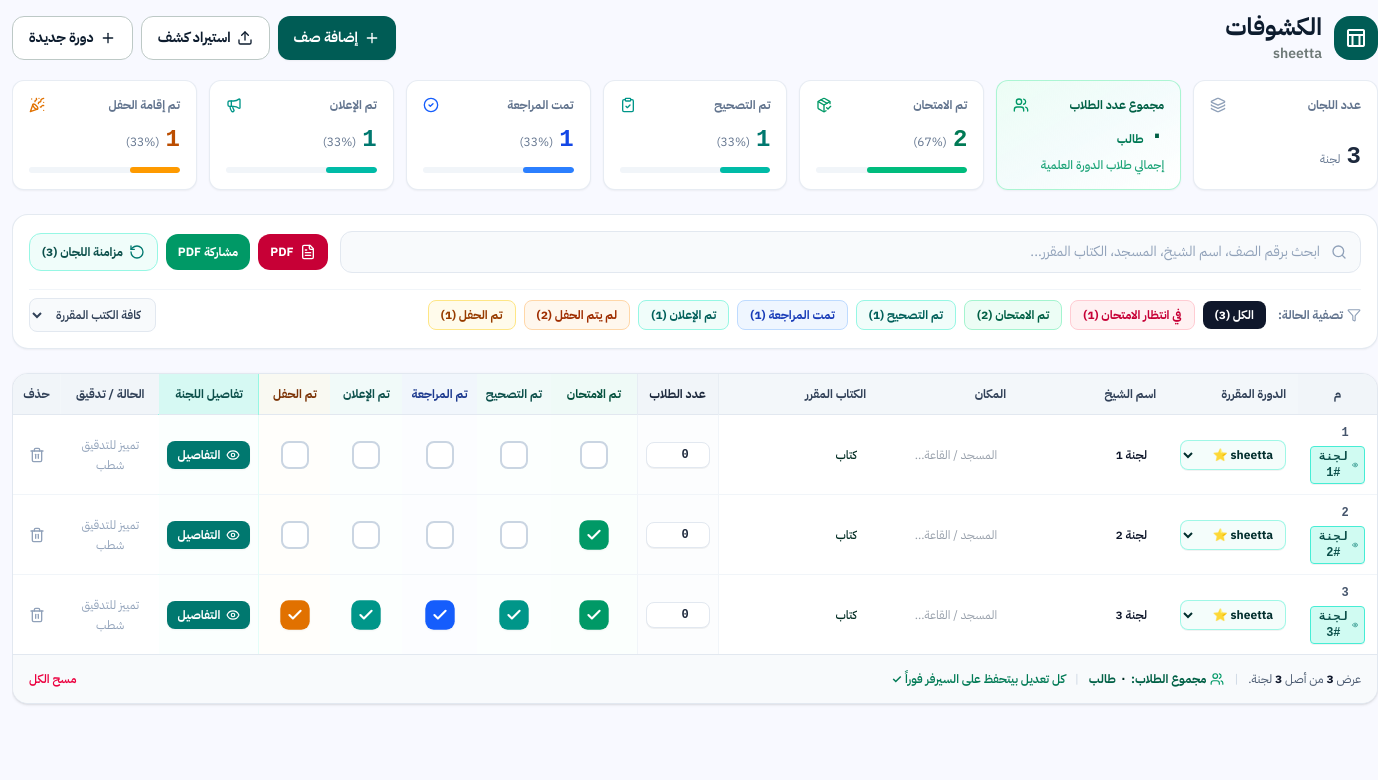
Test: course sheet screen › status filters count right, including «لم يتم الحفل» and «في انتظار الامتحان»
The image size is (1378, 780).
Expected: the button "في انتظار الامتحان (1)" is shown, x1=1070 y1=300 x2=1195 y2=330
Expected: the button "تم الحفل (1)" is shown, x1=428 y1=300 x2=516 y2=330
Click the button "لم يتم الحفل (2)" at coordinates (577, 315), box x1=524 y1=300 x2=630 y2=330
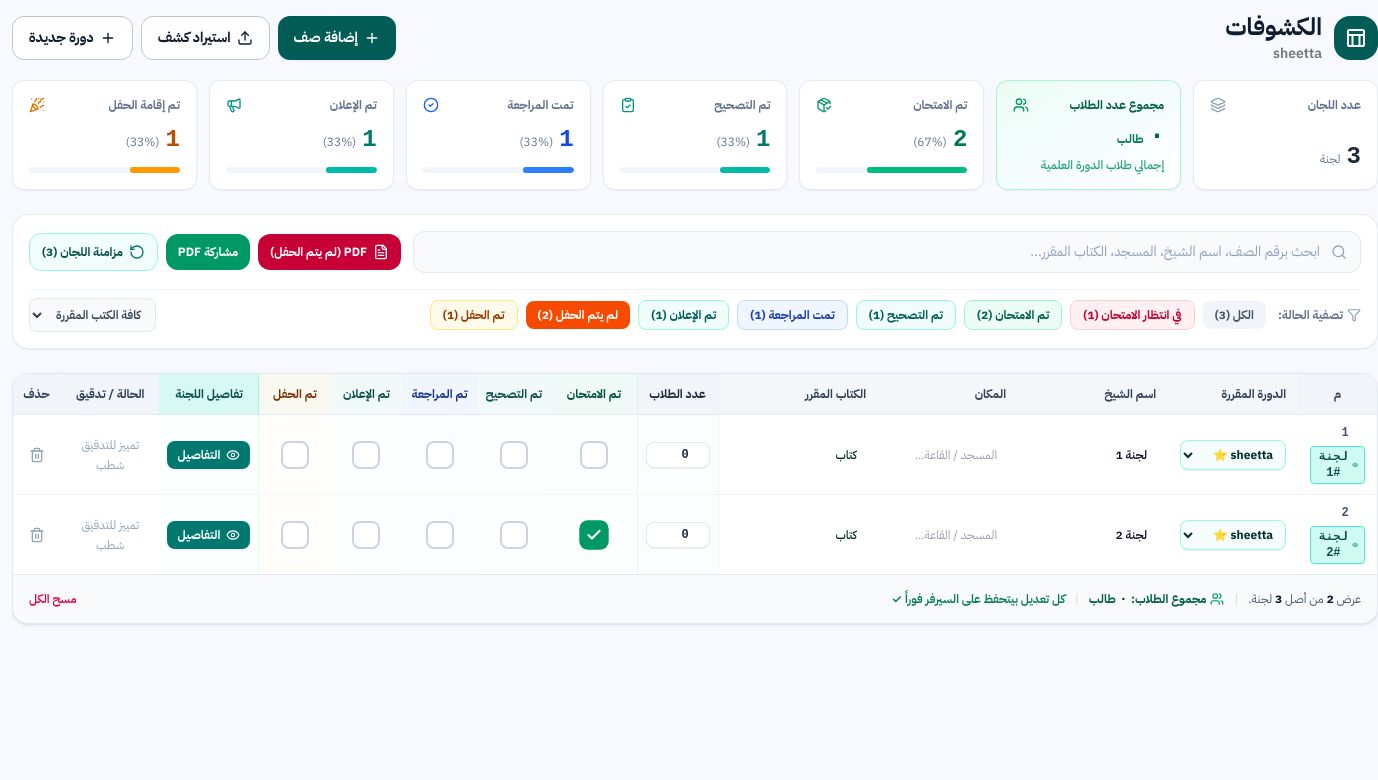
Expected: the button "لجنة #1" is shown, x1=1310 y1=446 x2=1365 y2=484
Expected: the button "لجنة #3" is gone
